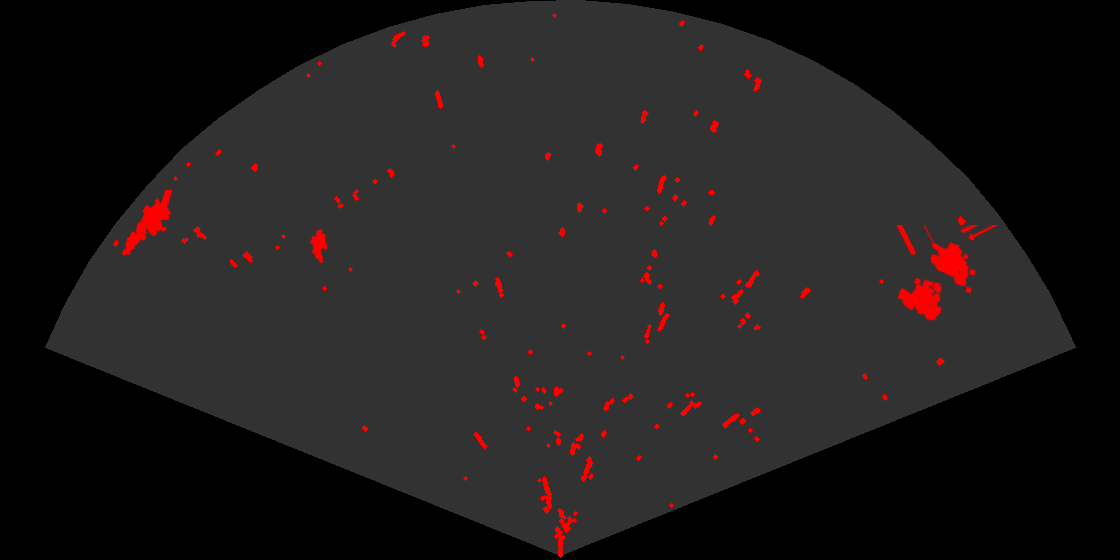AUV: (308, 227, 329, 265)
cage: (894, 225, 1000, 323)
frogman: (120, 190, 174, 257)
